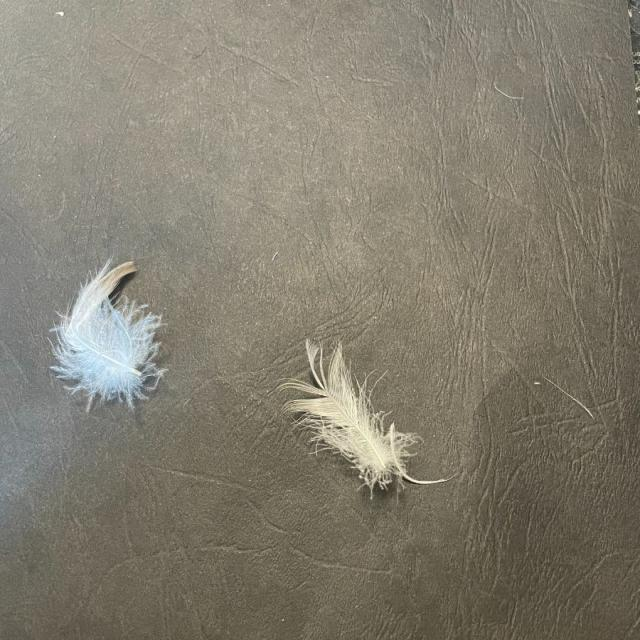feather: (274, 338, 456, 496), (46, 256, 170, 409)
